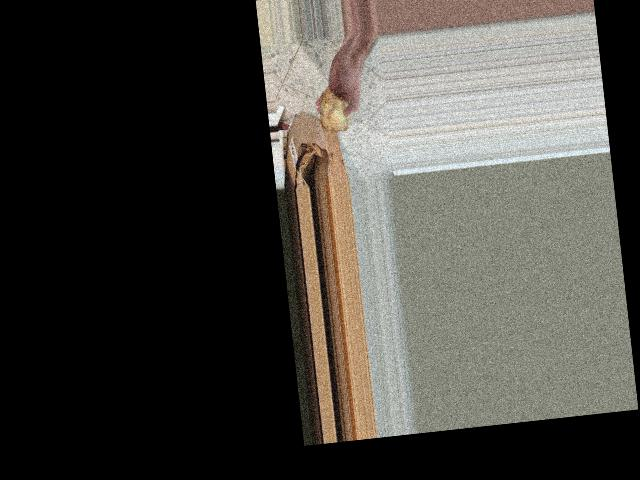onion: (316, 84, 356, 135)
